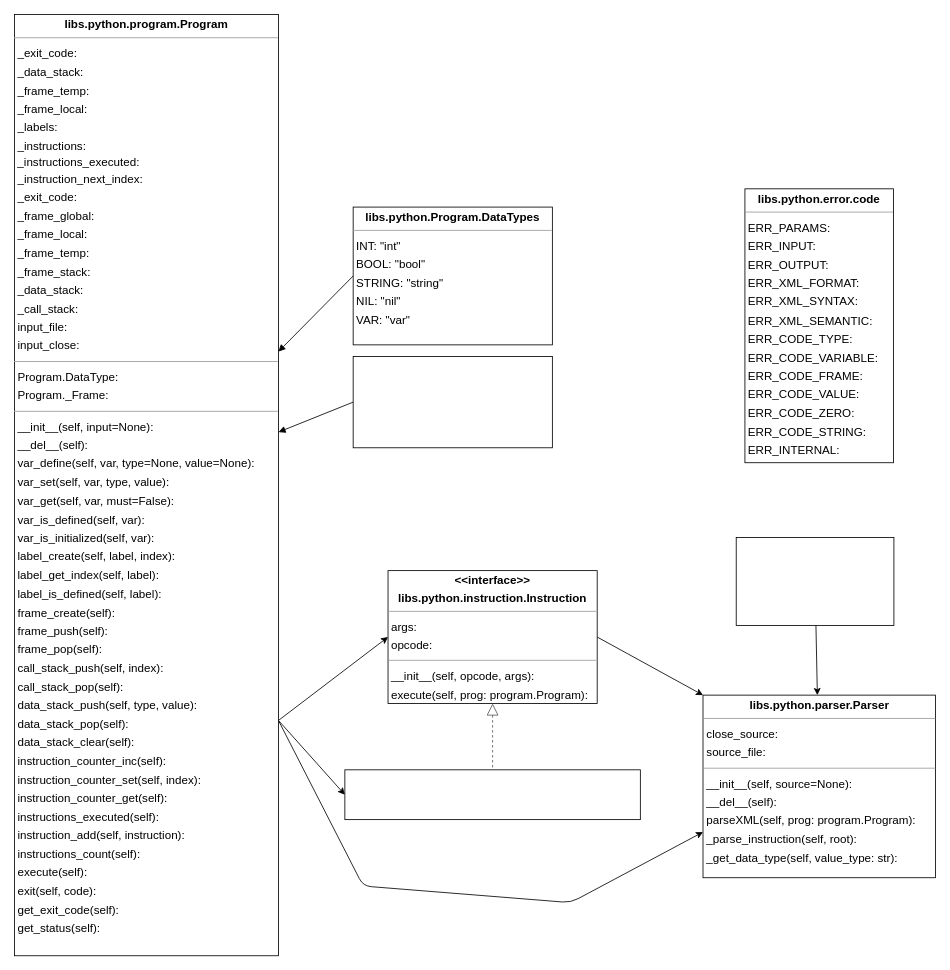
Some shapes in this 950 by 970 pixel diagram are drawn without their labels. Each missing label, with the box of its shape:
libs.python.instruction.<InsructionName> execute(self, prog: program.Program):: (344, 769, 640, 820)
libs.python.parser._XML _XML.Elem: _XML.Attr: _XML.AttrValue:: (735, 537, 894, 625)
libs.python.Program._Frame GF: "GF" LF: "LF" TF: "TF": (352, 356, 552, 448)
